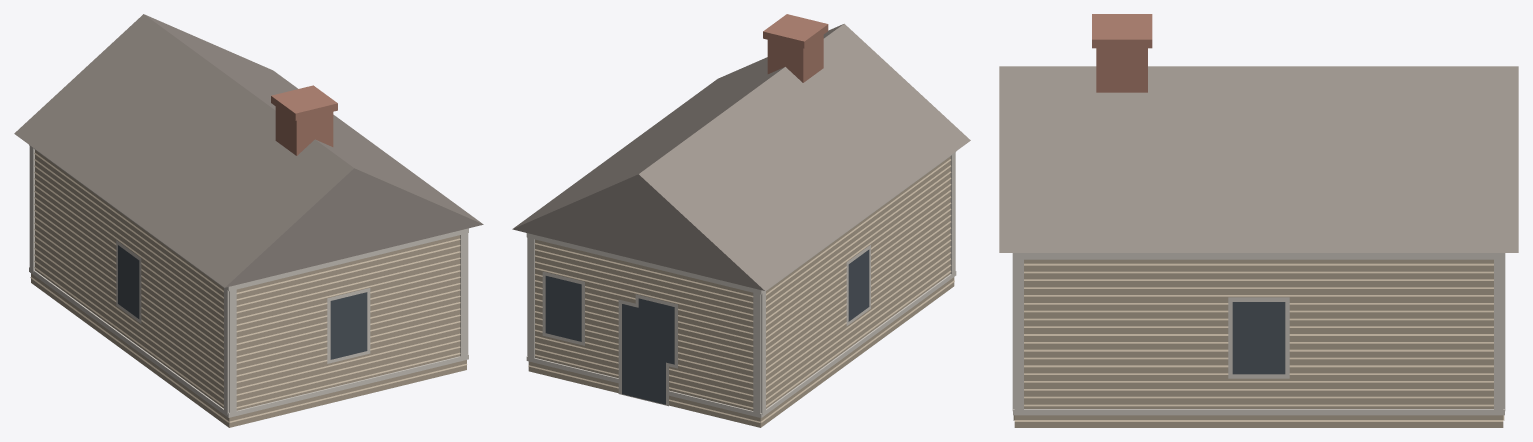
Rendered from inf_butcher_market__inferred_1835.glb.
3 views of the same model, side by side, from view 1: azimuth 30°, elevation 25°; view 2: azimuth 150°, elevation 25°; view 3: azimuth 270°, elevation 25° (orthographic). The views are drawn at different scales.
Visible parts, largest first — view 1: inf_butcher_market__inferred_1835; view 2: inf_butcher_market__inferred_1835; view 3: inf_butcher_market__inferred_1835.
Boxes of the visible parts, bbox=[...] form: inf_butcher_market__inferred_1835: bbox=[14, 14, 483, 427]; inf_butcher_market__inferred_1835: bbox=[512, 14, 970, 427]; inf_butcher_market__inferred_1835: bbox=[999, 14, 1518, 427].
Bounding box in the file's own units: 5.99 × 5.9 × 8.43.
